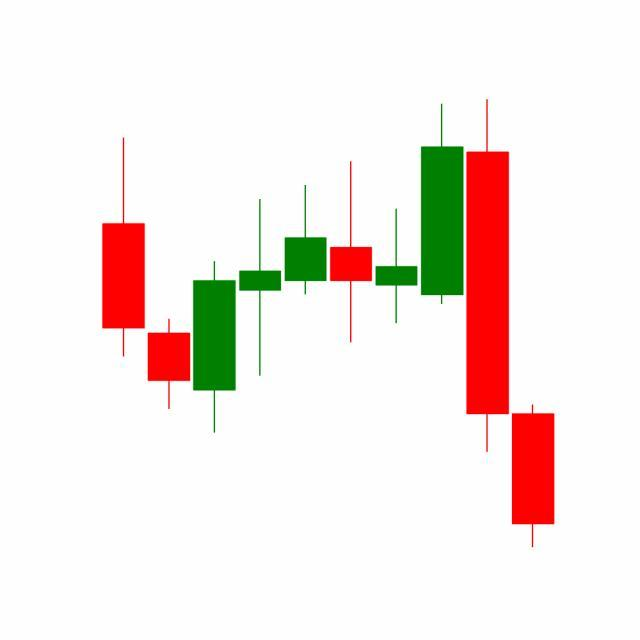Hikkake Pattern: (283, 100, 512, 458)
